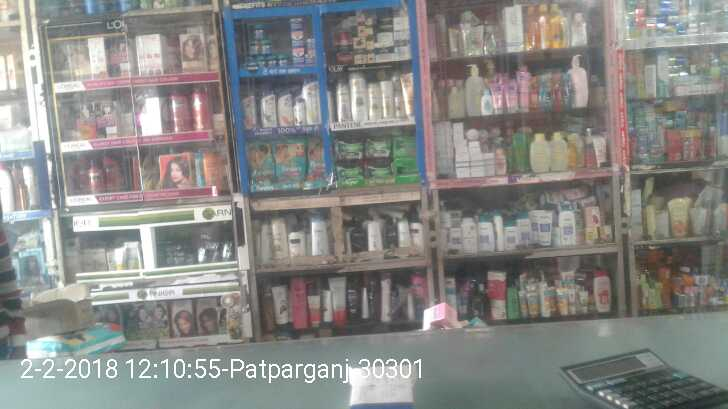beauty: (302, 80, 321, 125), (391, 18, 411, 60), (349, 70, 365, 121), (258, 89, 278, 129), (400, 72, 415, 116), (337, 81, 352, 120), (379, 79, 393, 116), (367, 84, 381, 120), (352, 35, 370, 63), (373, 40, 395, 62), (279, 89, 292, 125), (292, 97, 306, 124)
pharmacy: (246, 139, 277, 190), (274, 139, 305, 188), (303, 138, 323, 189), (336, 161, 365, 188), (392, 159, 421, 185), (364, 160, 390, 187), (334, 137, 363, 160), (363, 137, 392, 159), (392, 133, 417, 157), (252, 20, 266, 39), (292, 31, 307, 48), (291, 47, 306, 63), (287, 15, 303, 29), (246, 39, 259, 56), (259, 41, 273, 55)
